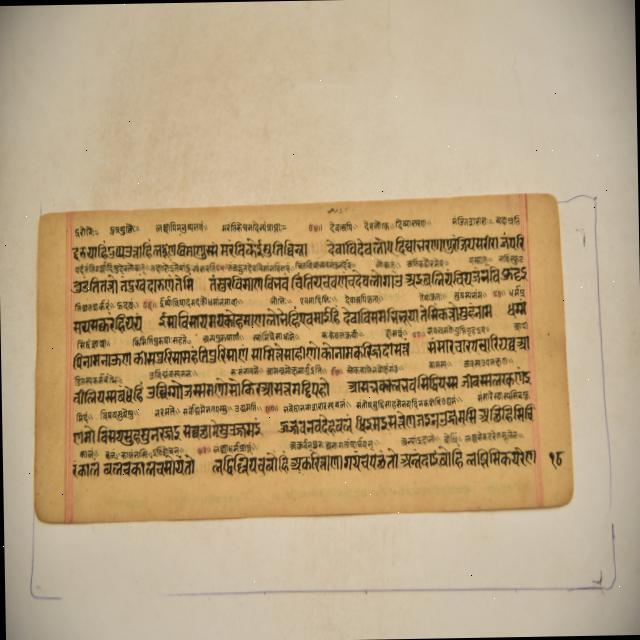text_paragraph: (35, 193, 572, 518)
